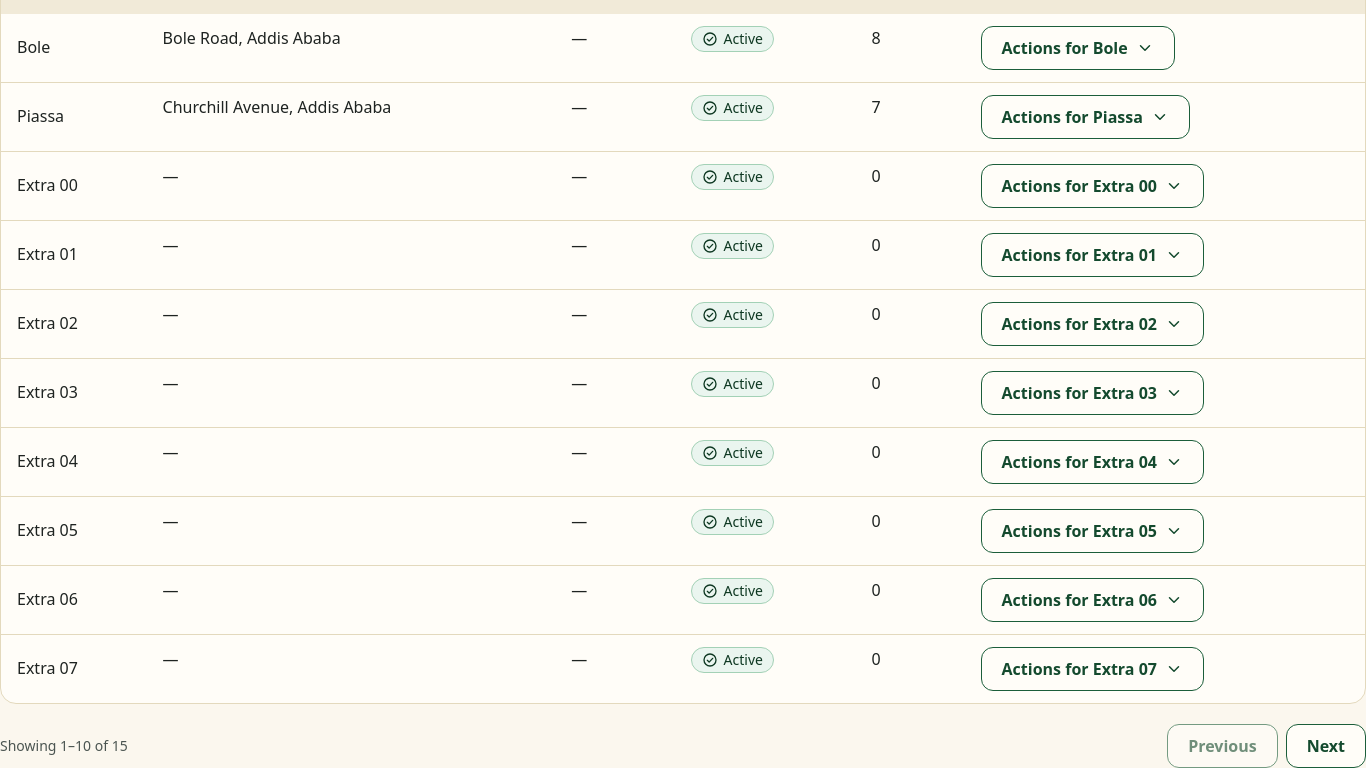
as an owner › pages a long list
(page scrolled)
Expected: the text "Showing 1–10 of 15" is shown, [0,736,128,756]
Click the button "Next" at (1326, 746), box [1286,724,1365,767]
(page scrolled)
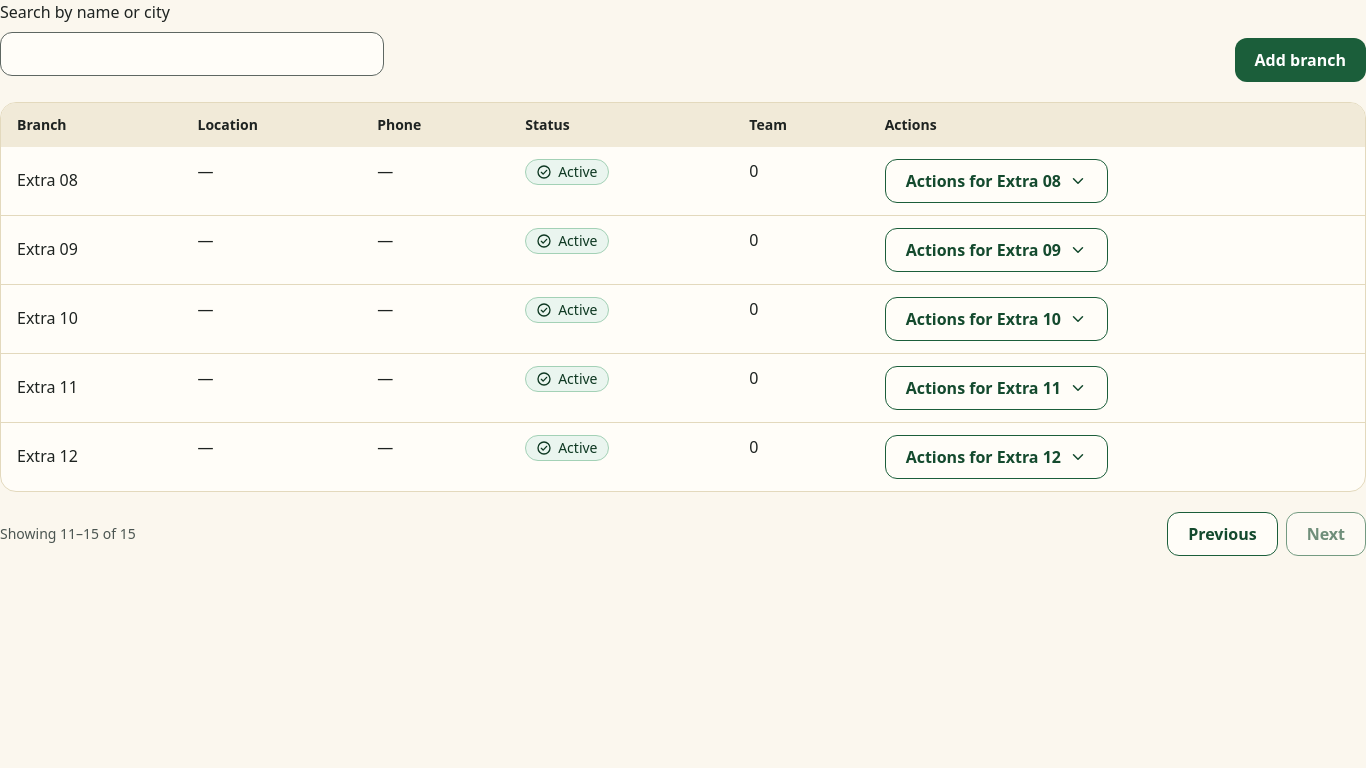
Expected: the text "Showing 11–15 of 15" is shown, [0,524,136,544]
